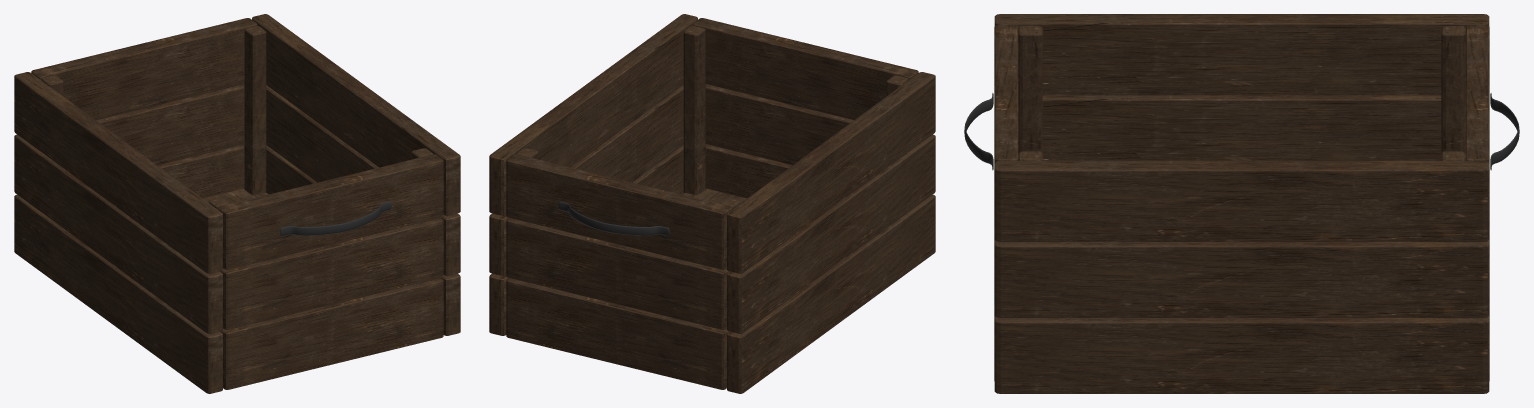
File: wooden box2.fbx
3 views of the same model, side by side, from view 1: azimuth 30°, elevation 25°; view 2: azimuth 150°, elevation 25°; view 3: azimuth 270°, elevation 25° (orthographic). The views are drawn at different scales.
Parts seen in each view (by area): view 1: wooden box; view 2: wooden box; view 3: wooden box.
Boxes of the visible parts, <box> form: wooden box: <box>14,14,460,393</box>; wooden box: <box>489,14,935,393</box>; wooden box: <box>964,14,1519,393</box>.
Size of the model in its own units: 34.2 by 22.97 by 51.18.
2 materials, 1 textured.
